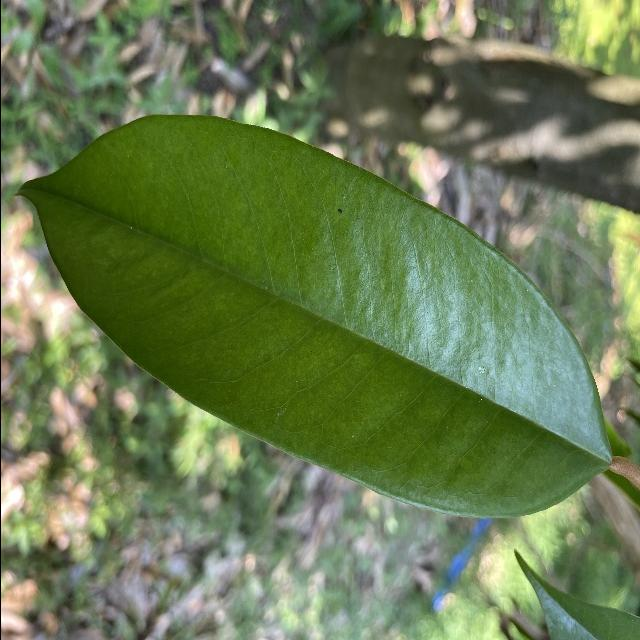No Disease: (0, 103, 619, 523)
